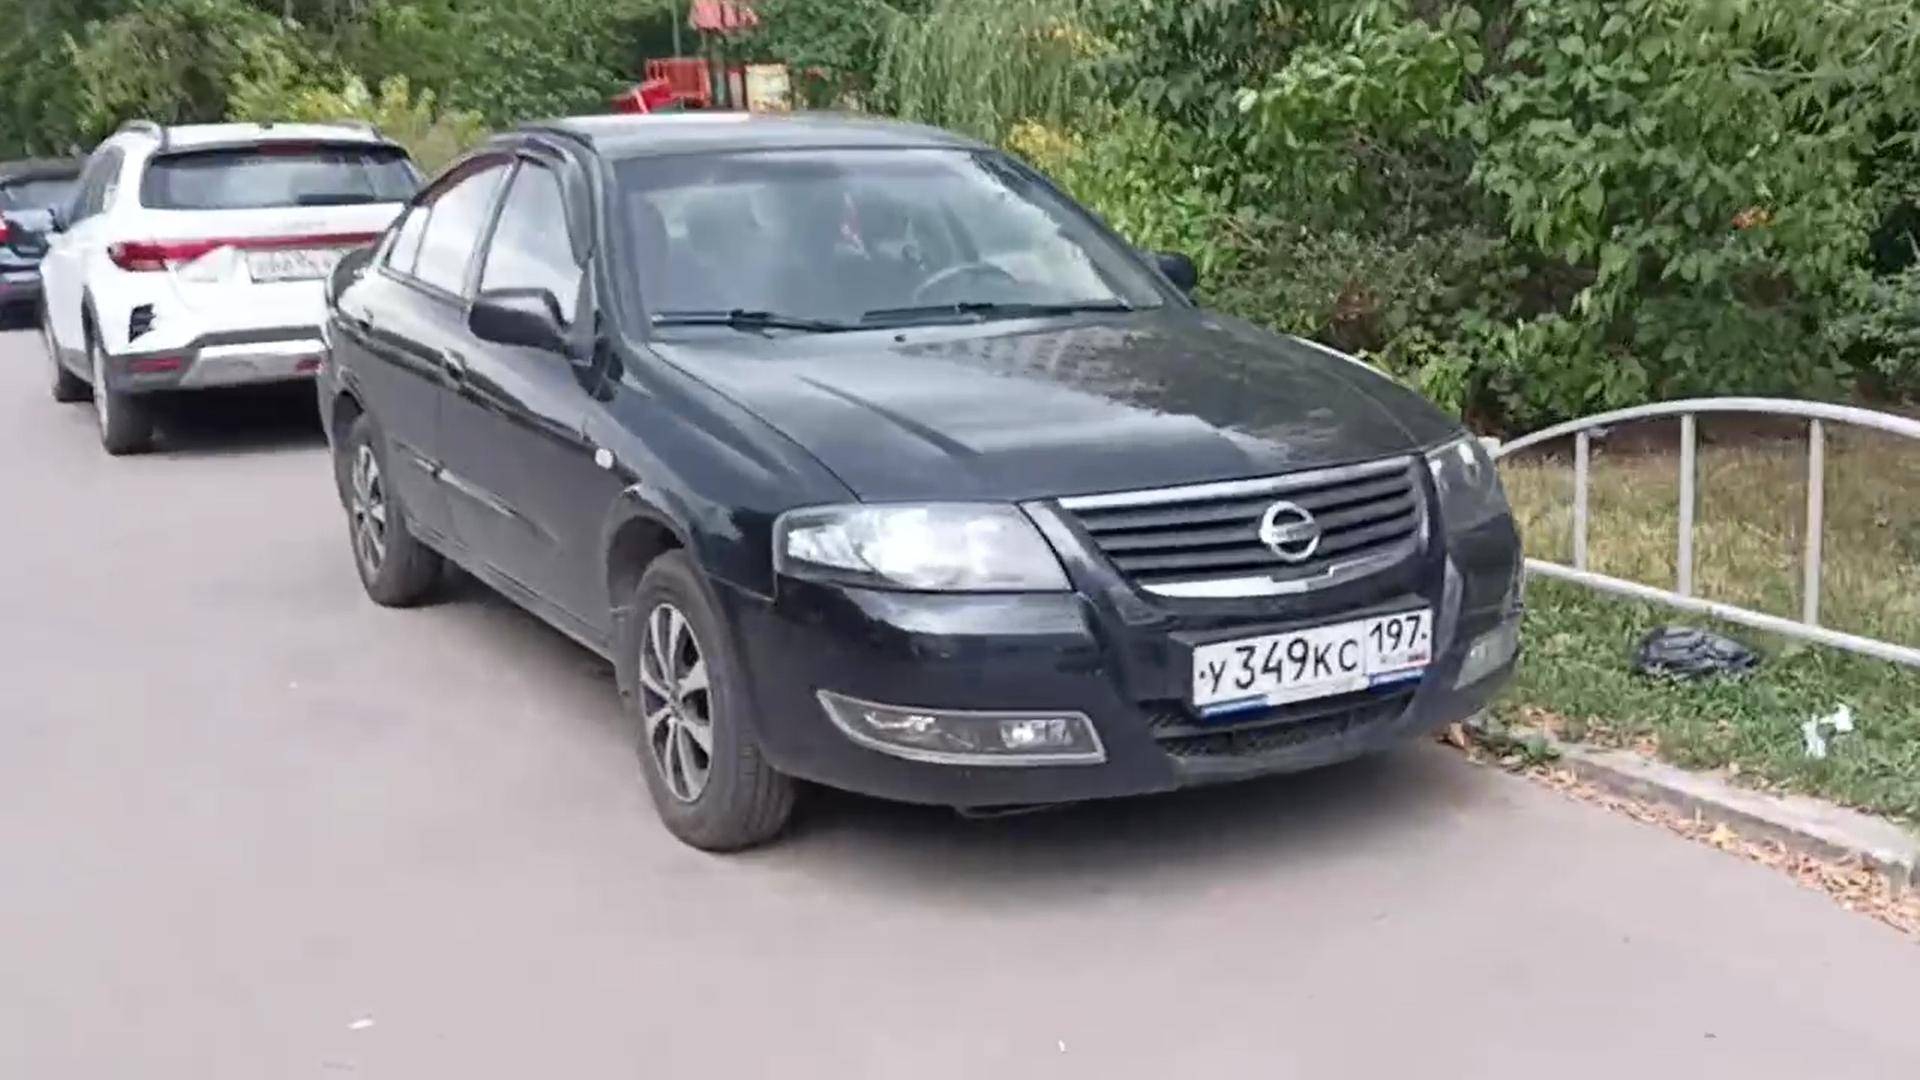plate: (1196, 600, 1428, 717), (252, 247, 340, 290)
